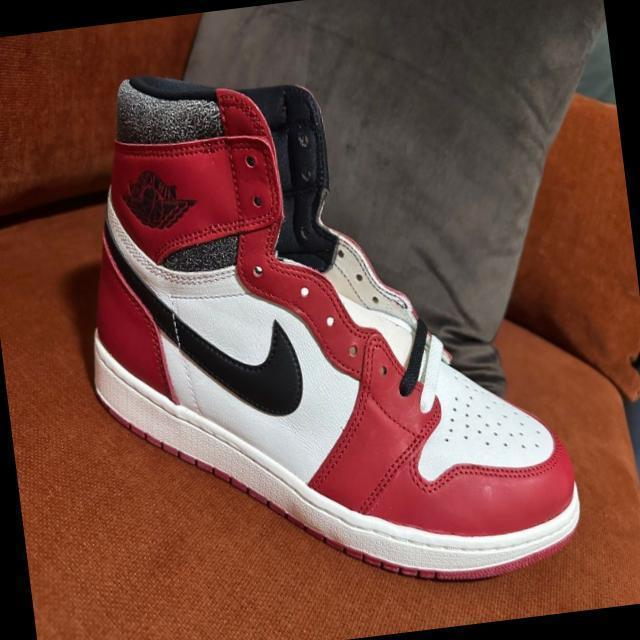nike original jordan 1: (56, 18, 592, 627)
